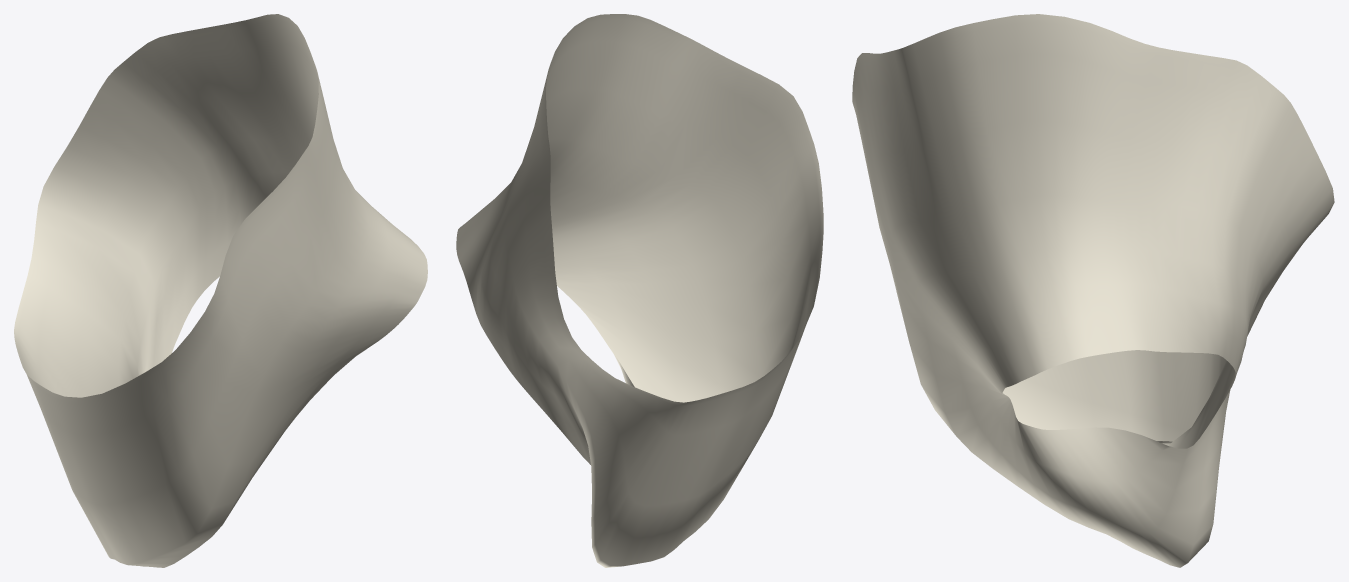
3 renders of one model, left to right at view 1: azimuth 30°, elevation 25°; view 2: azimuth 150°, elevation 25°; view 3: azimuth 270°, elevation 25°, orthographic. The views are drawn at different scales.
Parts seen in each view (by area): view 1: ZA_ac33c90e5b4f8144; view 2: ZA_ac33c90e5b4f8144; view 3: ZA_ac33c90e5b4f8144.
Boxes of the visible parts, left/top/right/bottom form: ZA_ac33c90e5b4f8144: left=14, top=14, right=427, bottom=567; ZA_ac33c90e5b4f8144: left=456, top=14, right=823, bottom=567; ZA_ac33c90e5b4f8144: left=852, top=14, right=1334, bottom=567.
Size of the model in its own units: 0.0541 by 0.0787 by 0.0573.
